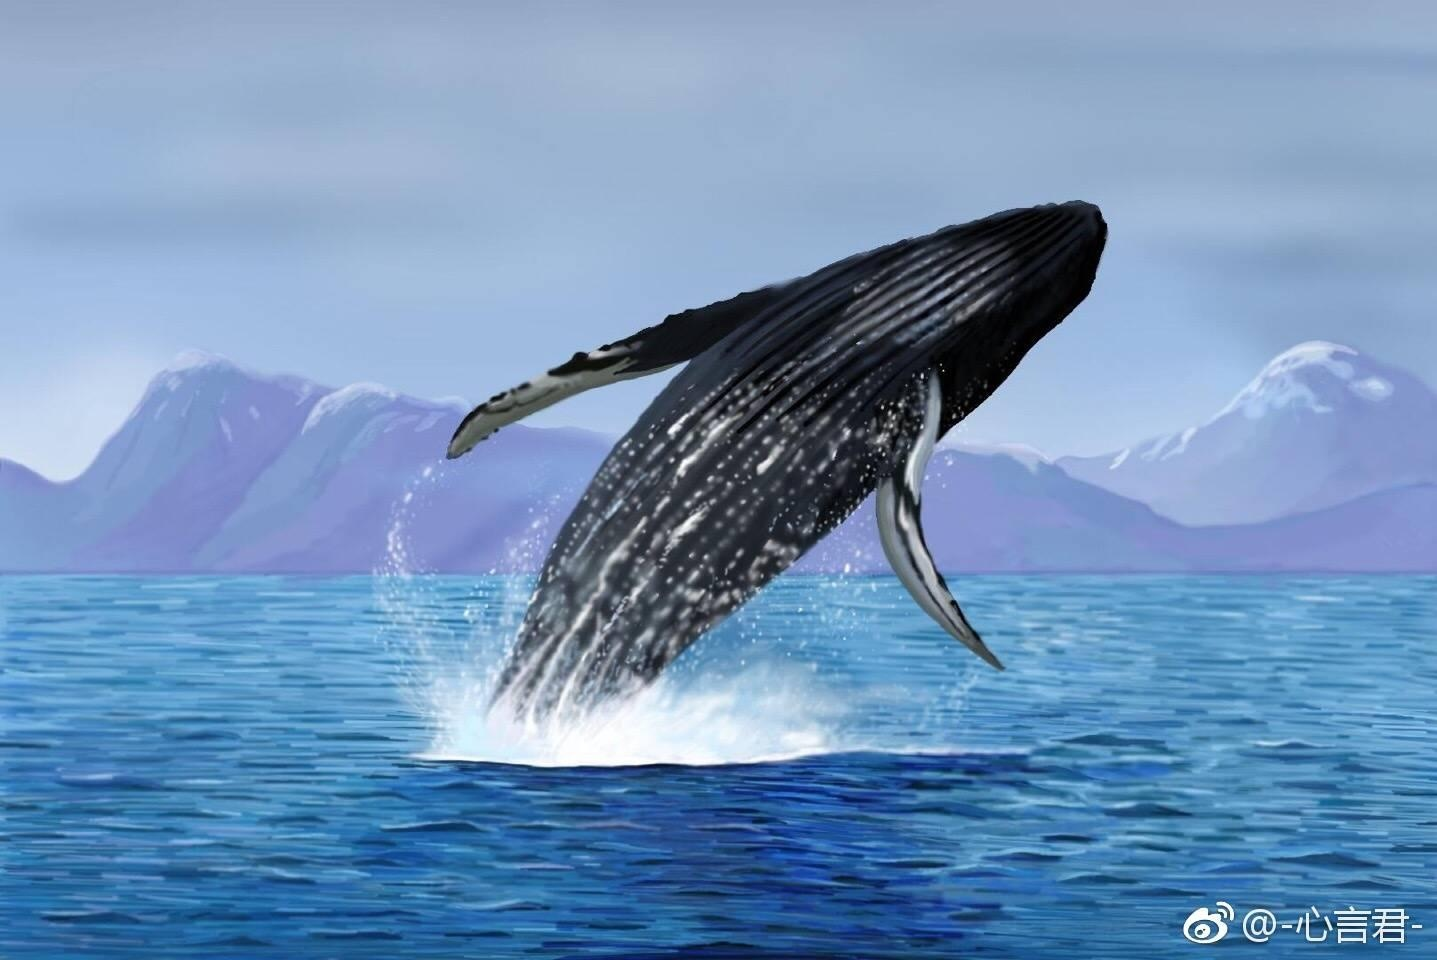fish: (417, 190, 1131, 762)
